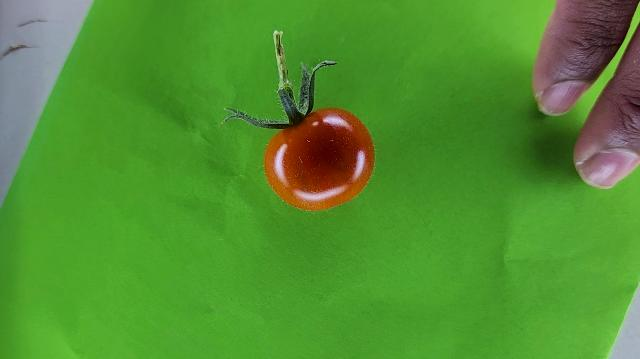Fully Grown: (262, 107, 377, 212)
